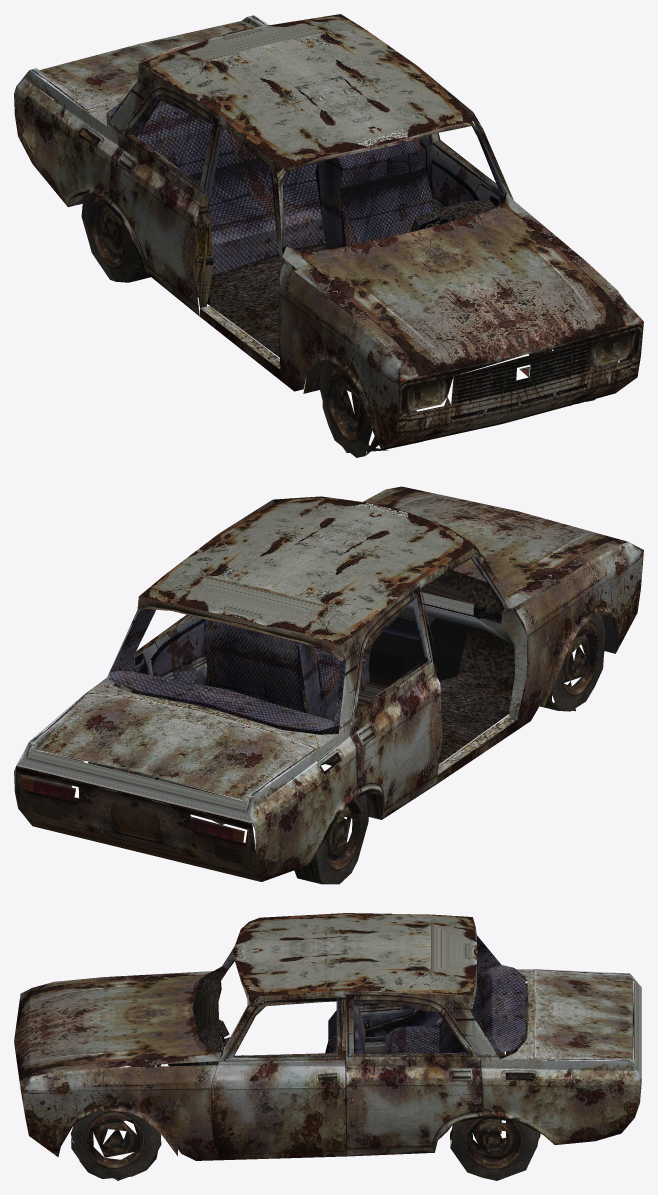
Rendered from car1_LOD1.FBX.
3 renders of one model, top to bottom at view 1: azimuth 30°, elevation 25°; view 2: azimuth 150°, elevation 25°; view 3: azimuth 270°, elevation 25°, orthographic. The views are drawn at different scales.
Parts seen in each view (by area): view 1: car1; view 2: car1; view 3: car1.
Part boxes in pixels (box(x1,y1,x2,y2)): car1: box(14, 14, 643, 457); car1: box(14, 486, 643, 884); car1: box(14, 913, 641, 1180).
Bounding box in the file's own units: 17.73 × 15.96 × 47.53.
Materials: 1 (1 with a texture image).
